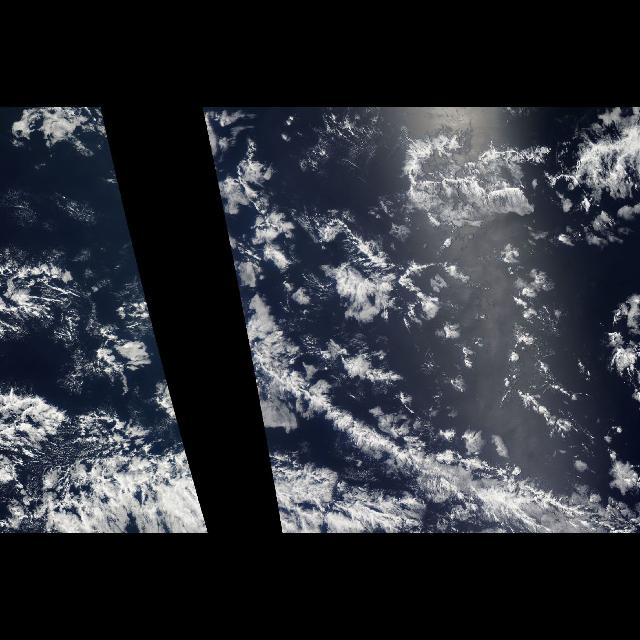Fish: (227, 243, 639, 532), (2, 243, 210, 532)
Flower: (210, 108, 640, 438)
